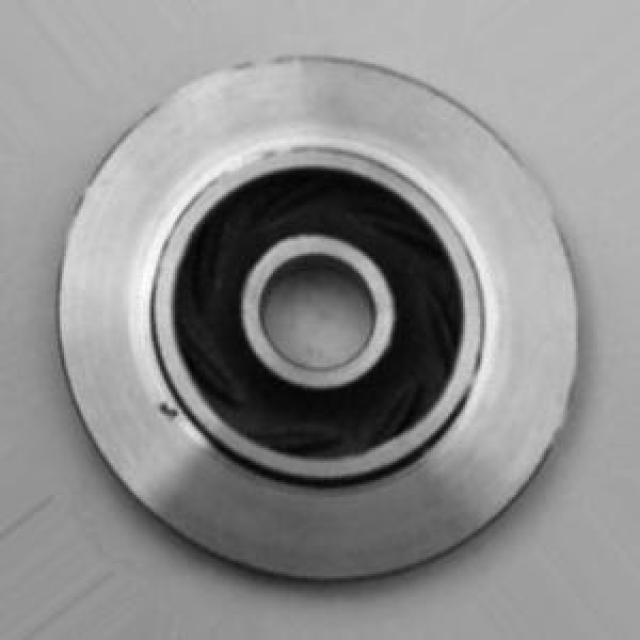Defect: (156, 400, 182, 422)
